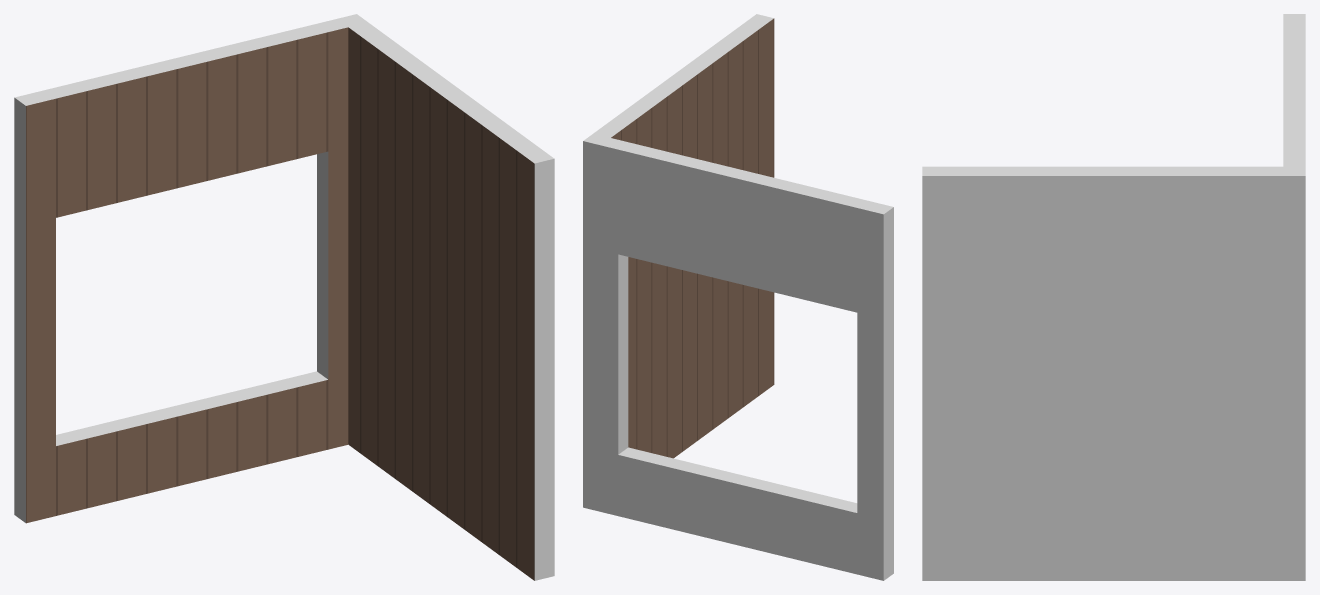
Rendered from Wall1_C9_13.fbx.
3 renders of one model, left to right at view 1: azimuth 30°, elevation 25°; view 2: azimuth 150°, elevation 25°; view 3: azimuth 270°, elevation 25°, orthographic. The views are drawn at different scales.
Parts seen in each view (by area): view 1: Wall1_C9_13; view 2: Wall1_C9_13; view 3: Wall1_C9_13.
Part boxes in pixels (x1,y1,x2,y2): Wall1_C9_13: (14, 14, 554, 580); Wall1_C9_13: (583, 14, 893, 580); Wall1_C9_13: (922, 14, 1305, 580).
Bounding box in the file's own units: 258 × 300 × 258.
